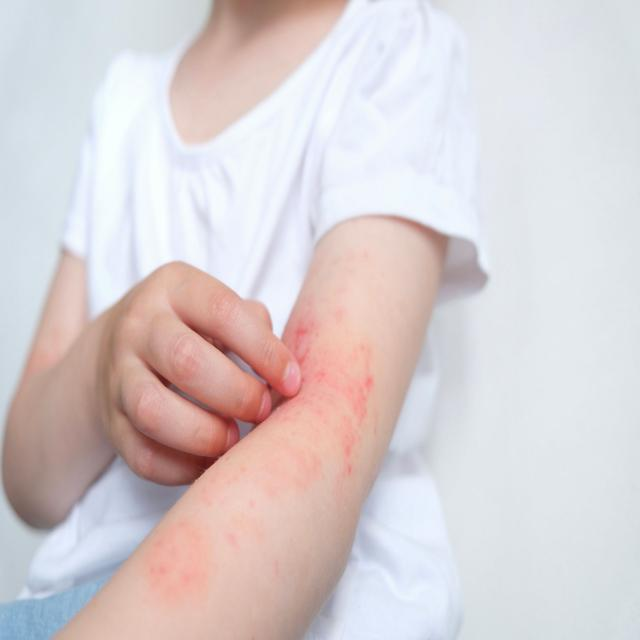eczema: (290, 318, 370, 458)
